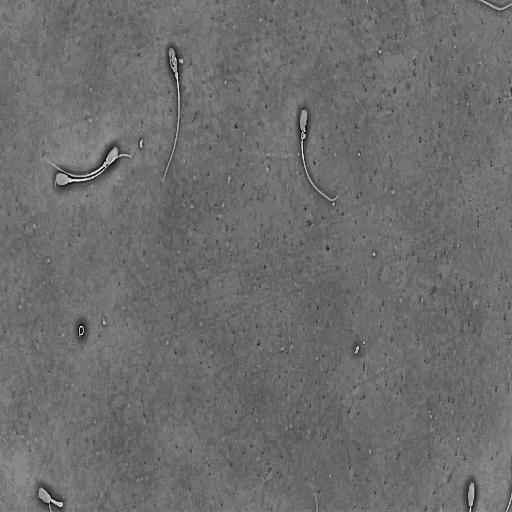coiled-tail: (50, 498, 63, 508)
dirt-particles: (77, 322, 85, 339)
normal: (299, 108, 339, 203), (161, 45, 180, 184), (43, 144, 119, 177), (54, 154, 131, 186), (38, 486, 64, 512)
proximal-droplet: (301, 130, 306, 140), (174, 71, 178, 81), (103, 161, 107, 168), (68, 178, 72, 183)
